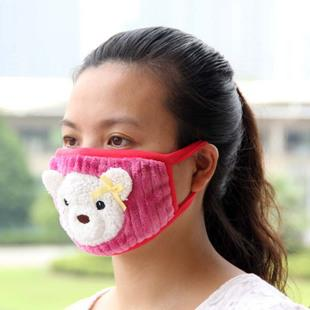OK: (61, 105, 176, 250)
